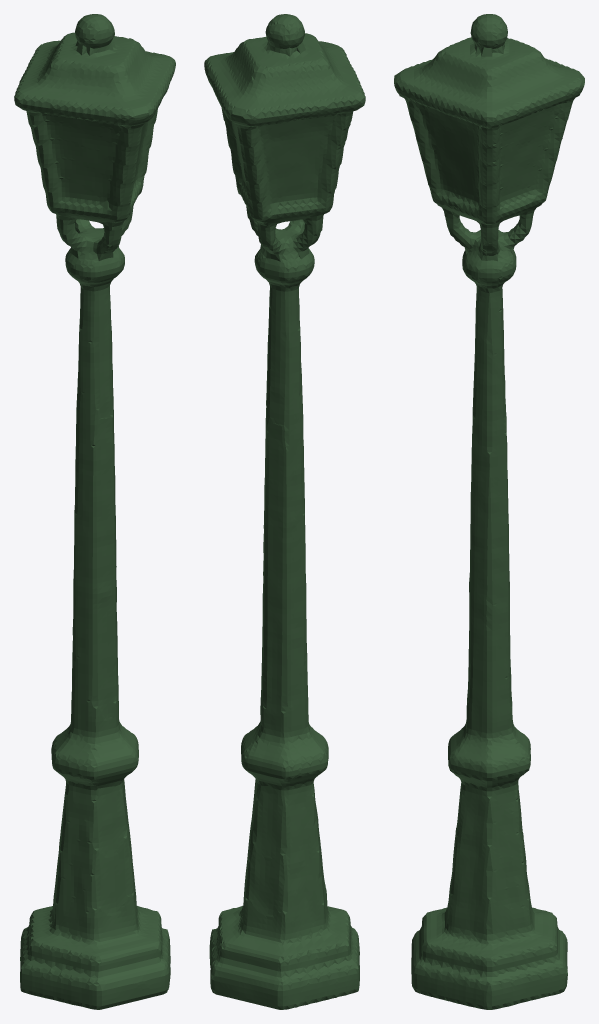
File: lampa.glb
3 views of the same model, side by side, from view 1: azimuth 30°, elevation 25°; view 2: azimuth 150°, elevation 25°; view 3: azimuth 270°, elevation 25° (orthographic).
Visible parts, largest first — view 1: Mesh_0; view 2: Mesh_0; view 3: Mesh_0.
Part boxes in pixels (left/top/right/bottom): Mesh_0: left=14, top=14, right=175, bottom=1009; Mesh_0: left=204, top=14, right=365, bottom=1009; Mesh_0: left=394, top=14, right=584, bottom=1009.
Size of the model in its own units: 0.3388 by 1.96 by 0.3532.
